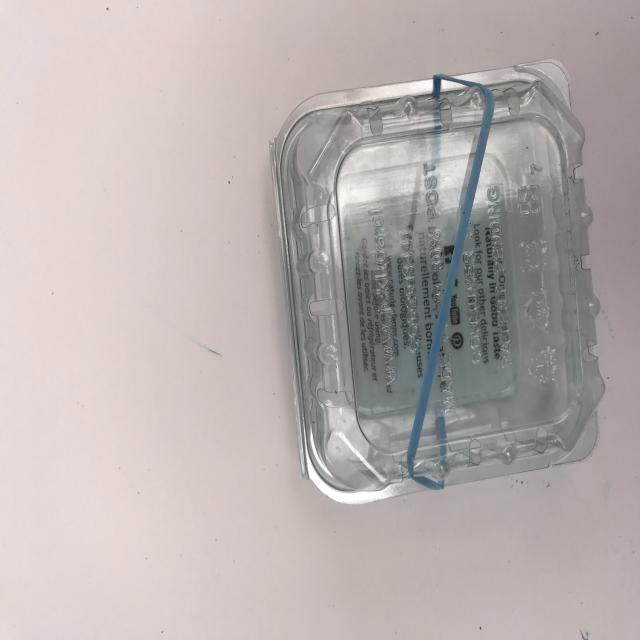plastic: (232, 49, 611, 561)
